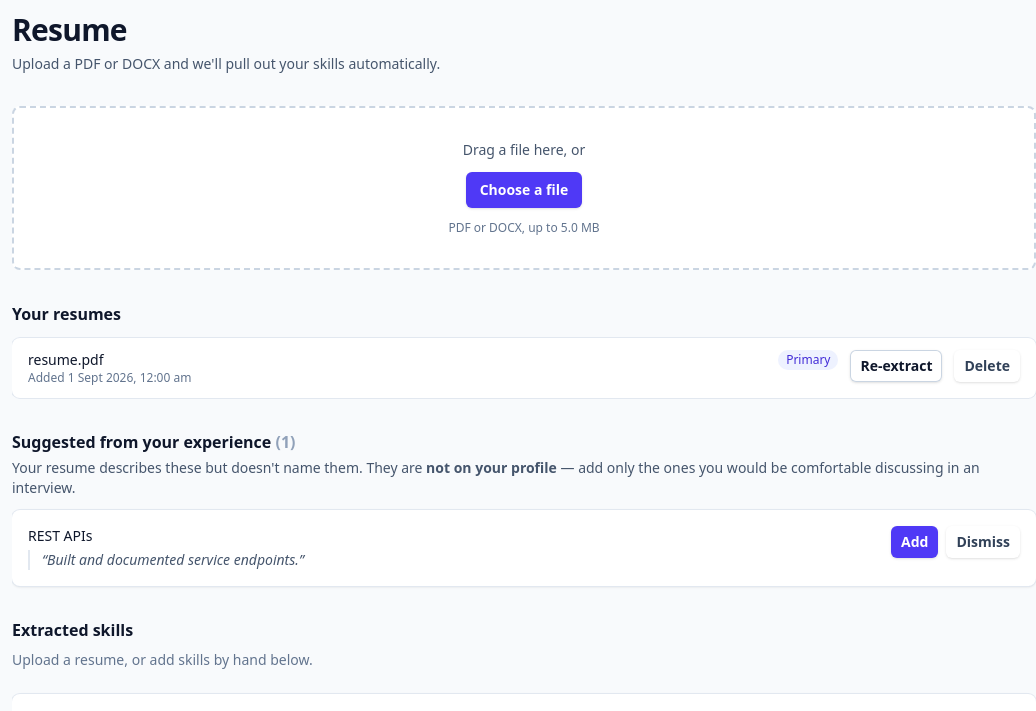
ResumePage › failures that used to be silent › reports a failed suggestion add and does not dismiss it
Click the button "Add" at (915, 542), box [891, 526, 938, 558]
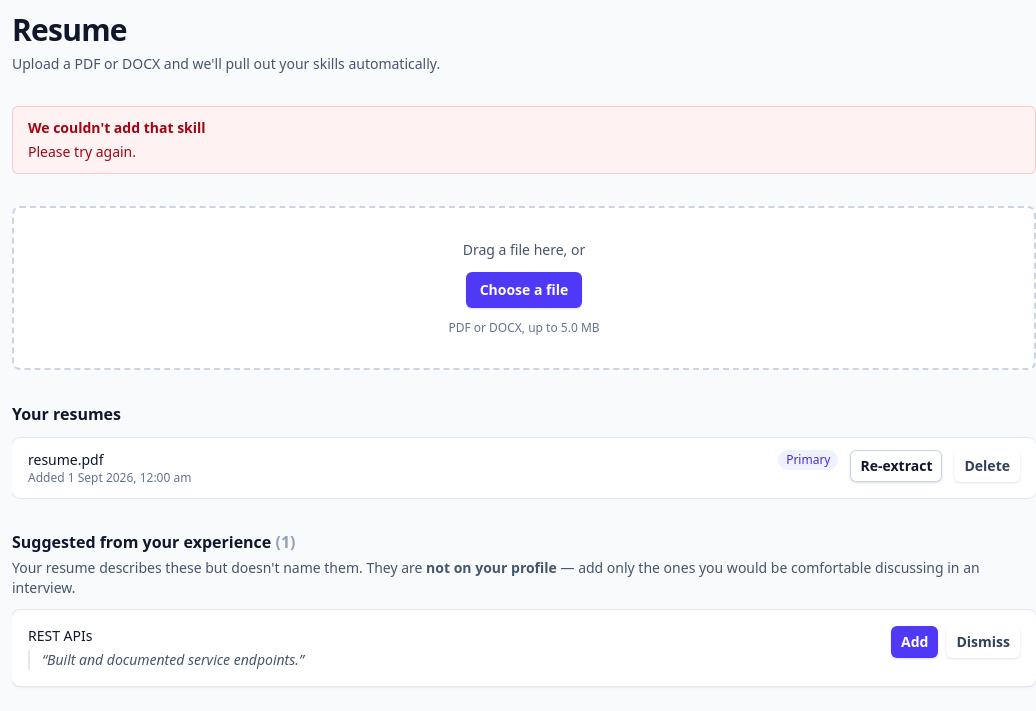
Expected: the text "REST APIs" is shown, [28, 626, 92, 645]
Now the message shows "couldn't add that skill", box [28, 118, 206, 137]
